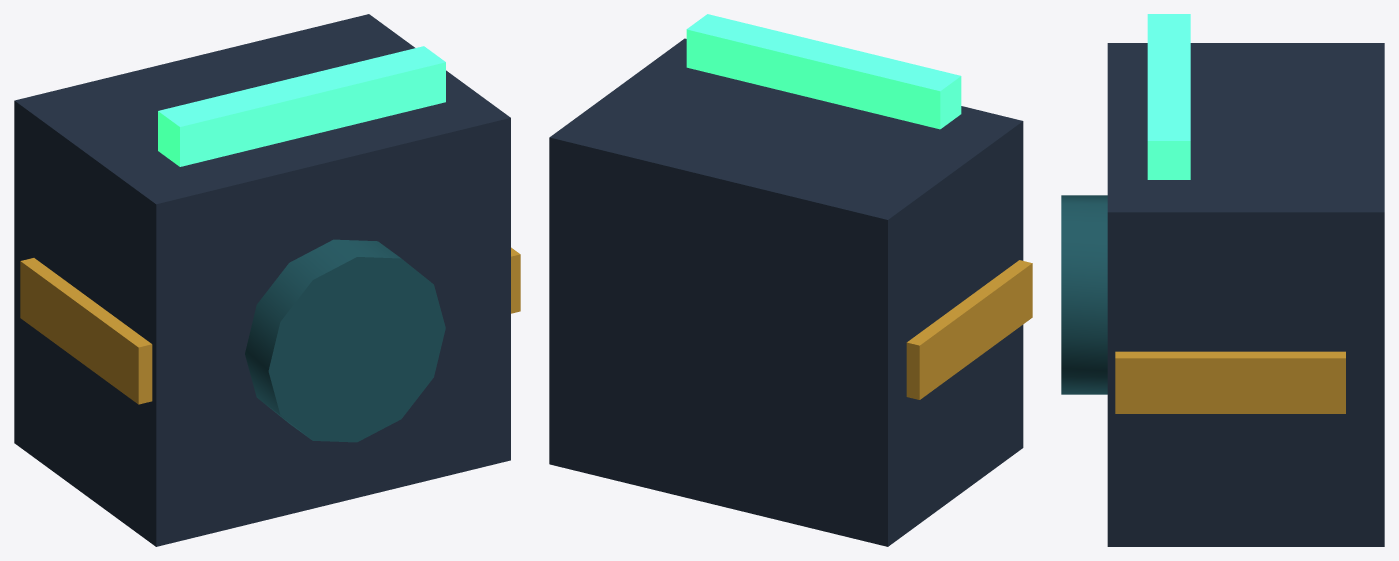
The model's file is bat-s.glb.
3 views of the same model, side by side, from view 1: azimuth 30°, elevation 25°; view 2: azimuth 150°, elevation 25°; view 3: azimuth 270°, elevation 25° (orthographic). The views are drawn at different scales.
Parts seen in each view (by area): view 1: battery_tray_base, li_ion_cell_0, charge_led_strip, battery_thermal_strap; view 2: battery_tray_base, charge_led_strip, battery_thermal_strap; view 3: battery_tray_base, battery_thermal_strap, li_ion_cell_0, charge_led_strip.
Part boxes in pixels (x1,y1,x2,y2): battery_tray_base: [14, 14, 510, 546]; li_ion_cell_0: [245, 239, 445, 442]; charge_led_strip: [158, 46, 445, 166]; battery_thermal_strap: [20, 247, 520, 404]; battery_tray_base: [549, 38, 1023, 546]; charge_led_strip: [686, 14, 961, 129]; battery_thermal_strap: [906, 260, 1032, 399]; battery_tray_base: [1107, 43, 1384, 546]; battery_thermal_strap: [1115, 351, 1345, 413]; li_ion_cell_0: [1061, 195, 1107, 394]; charge_led_strip: [1147, 14, 1190, 179].
Bounding box in the file's own units: 0.28 × 0.276 × 0.21.
